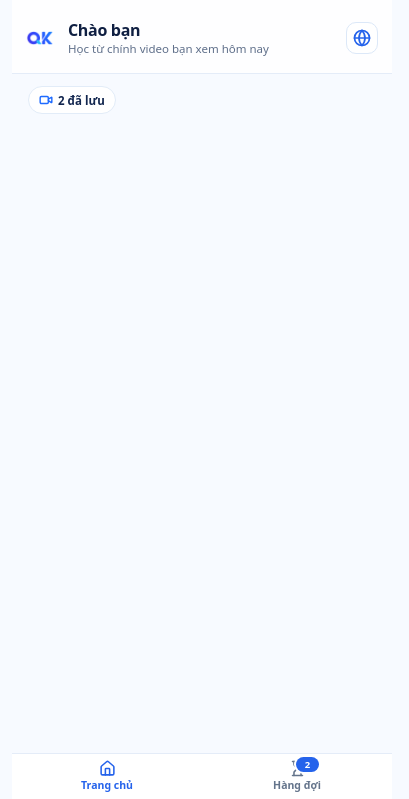
Test: App — popup lưu trang hiện tại + hàng đợi › (j) queue với card → KHÔNG còn ký tự emoji/AI-slop nào trong copy
Click the button with test id "tab-queue" at x=297, y=776, box [202, 754, 392, 798]
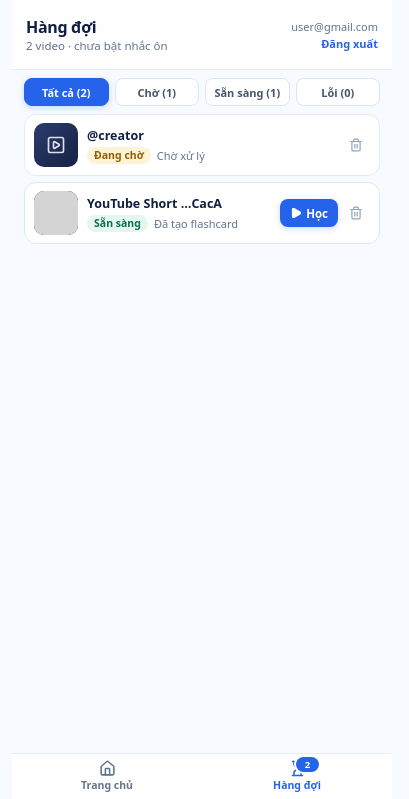
Now the heading "Hàng đợi" is shown, box [26, 16, 96, 38]
